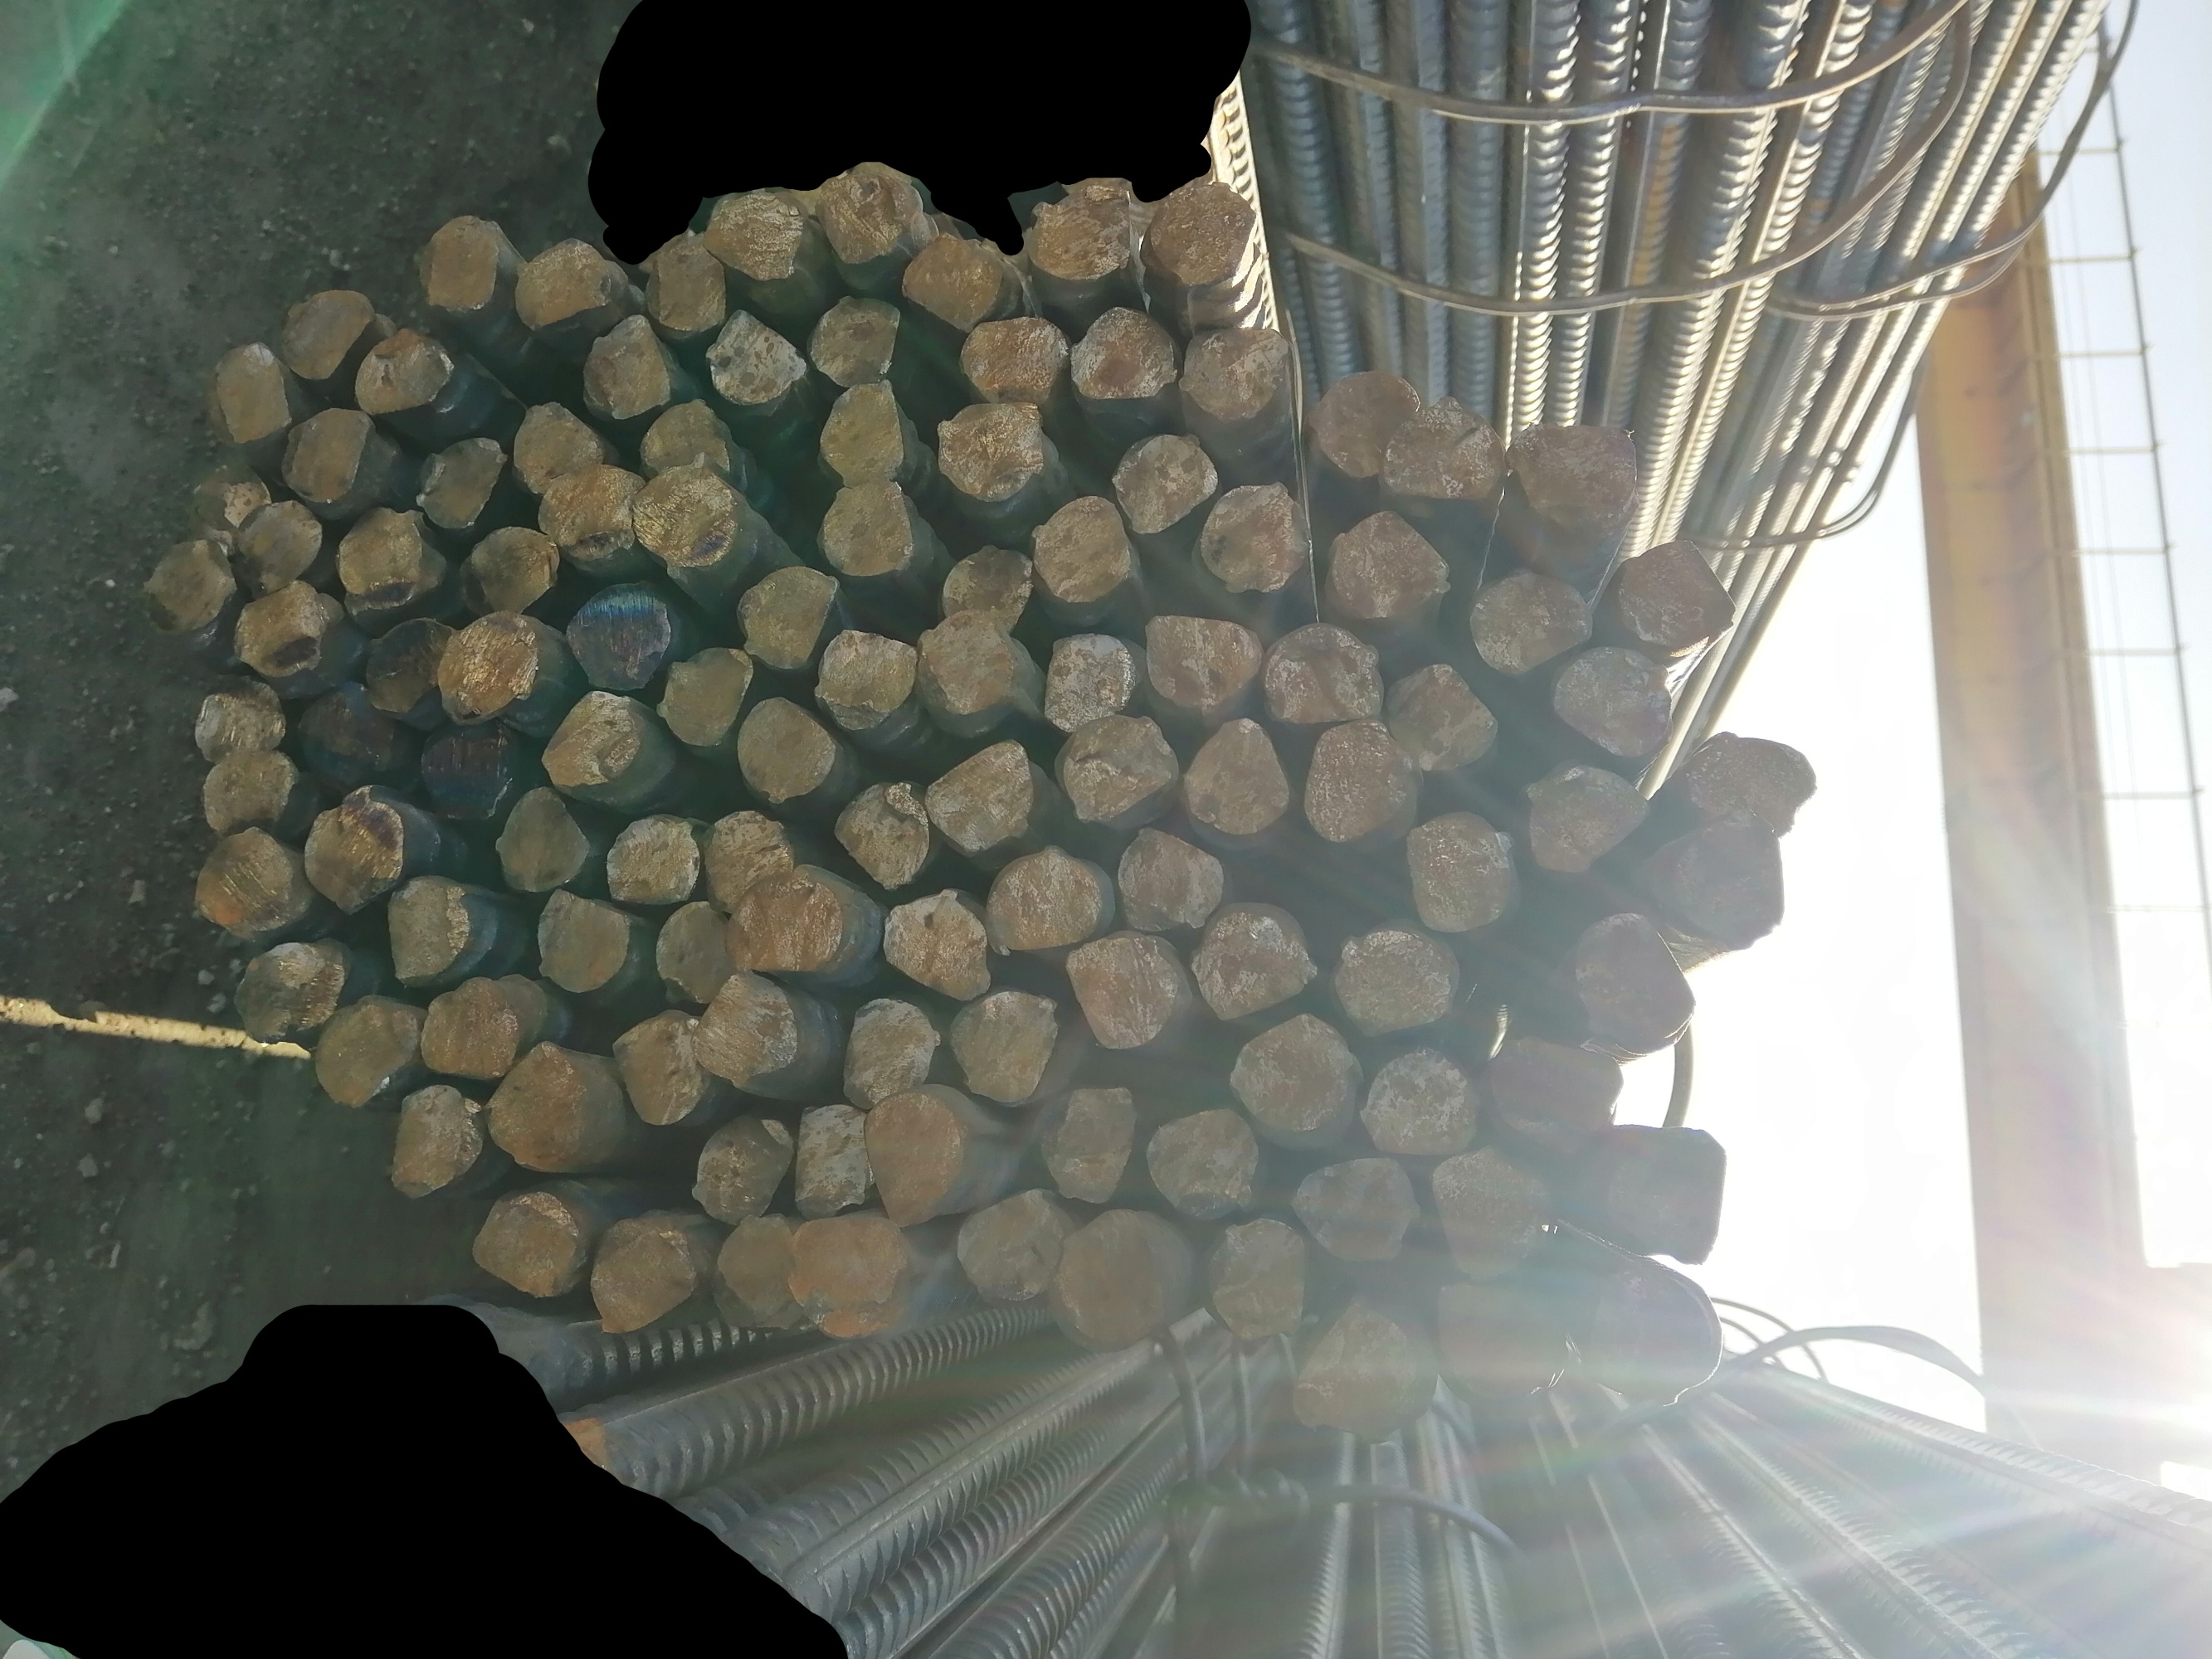rebar: (1292, 1297, 1440, 1448), (1581, 1260, 1726, 1412), (1560, 906, 1698, 1063), (479, 1037, 633, 1175), (1049, 1206, 1194, 1349), (1656, 803, 1787, 953), (1227, 1011, 1365, 1152), (1483, 1030, 1626, 1162), (1435, 1276, 1574, 1410), (1604, 1121, 1731, 1267), (1428, 1147, 1562, 1283), (1504, 416, 1642, 542), (1517, 758, 1656, 880), (1058, 929, 1194, 1053), (1299, 716, 1426, 847), (1328, 917, 1461, 1042), (1604, 535, 1741, 653), (786, 1211, 912, 1340), (1686, 723, 1822, 842), (863, 1084, 973, 1230), (1288, 1154, 1426, 1269), (1185, 908, 1320, 1025), (1551, 641, 1677, 763), (1051, 711, 1180, 829), (1400, 807, 1517, 938), (1325, 507, 1455, 622), (910, 606, 1021, 741), (1468, 566, 1597, 681), (629, 450, 743, 580), (920, 734, 1037, 859), (950, 1188, 1072, 1307), (1361, 1044, 1487, 1159), (302, 782, 406, 918), (877, 885, 995, 1004), (1381, 392, 1506, 504), (692, 965, 802, 1093), (985, 843, 1103, 960), (1306, 366, 1424, 483), (1381, 660, 1501, 775), (1259, 620, 1388, 727), (1143, 1105, 1260, 1222), (1143, 174, 1262, 289), (1198, 479, 1313, 598), (950, 986, 1063, 1107), (230, 934, 354, 1044), (385, 873, 502, 988), (331, 502, 444, 620), (561, 575, 675, 694), (469, 1188, 589, 1300), (589, 1213, 697, 1337), (310, 992, 424, 1108), (1182, 716, 1292, 836), (723, 868, 845, 976), (713, 1213, 819, 1337), (837, 992, 947, 1110), (1140, 610, 1265, 713), (608, 1006, 715, 1126), (1206, 1216, 1307, 1342), (1107, 427, 1220, 538), (1027, 491, 1138, 605), (1114, 823, 1227, 934), (434, 608, 540, 727), (1037, 1084, 1140, 1206), (732, 563, 844, 674), (812, 157, 926, 267), (934, 397, 1049, 505), (690, 1110, 797, 1227), (1175, 322, 1293, 425), (230, 579, 347, 681), (1020, 181, 1138, 282), (809, 626, 919, 734), (535, 458, 648, 563), (734, 694, 838, 807), (389, 1082, 486, 1202), (830, 781, 933, 894), (1067, 303, 1182, 404), (418, 972, 523, 1082), (295, 680, 397, 789), (532, 884, 633, 995), (898, 232, 1009, 333), (493, 782, 593, 896), (579, 310, 678, 423), (417, 714, 521, 821), (192, 828, 295, 934), (654, 645, 755, 753), (702, 307, 811, 408), (695, 809, 797, 917), (957, 312, 1072, 406), (539, 688, 647, 788), (138, 537, 242, 638), (812, 479, 917, 580), (455, 523, 561, 622), (702, 185, 809, 284), (791, 1101, 879, 1222), (511, 234, 614, 335), (1041, 629, 1138, 734), (816, 378, 910, 486), (277, 406, 377, 507), (230, 497, 324, 603), (363, 615, 460, 716), (940, 540, 1037, 641), (352, 324, 457, 418), (202, 340, 295, 446), (643, 230, 730, 342), (275, 286, 377, 380), (410, 211, 502, 314), (199, 746, 303, 836), (654, 897, 739, 1007), (413, 436, 511, 532), (511, 397, 607, 495), (605, 812, 702, 908), (805, 293, 903, 387), (183, 460, 272, 558), (192, 673, 284, 765), (638, 397, 737, 481)
